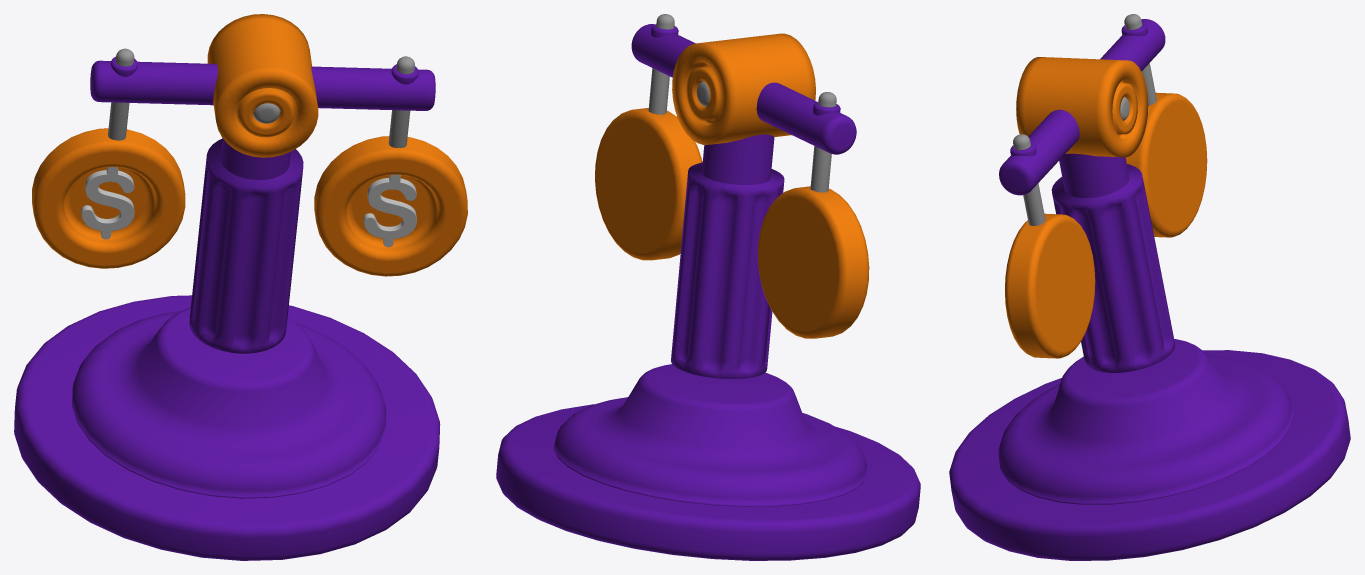
The picture shows the model from 3 angles, left to right: view 1: azimuth 30°, elevation 25°; view 2: azimuth 150°, elevation 25°; view 3: azimuth 270°, elevation 25°; orthographic projection. The views are drawn at different scales.
Parts seen in each view (by area): view 1: Cylinder.053, Cylinder.052, Cylinder.051, Cylinder.060, Cylinder.061, Cylinder.055, Cylinder.057, Text.007, Text.008, Cylinder.058, Cylinder.054, Cylinder.059; view 2: Cylinder.053, Cylinder.052, Cylinder.051, Cylinder.061, Cylinder.060, Cylinder.055, Cylinder.057, Cylinder.054, Cylinder.058; view 3: Cylinder.053, Cylinder.052, Cylinder.051, Cylinder.060, Cylinder.055, Cylinder.061, Cylinder.057, Cylinder.054, Cylinder.058.
Boxes of the visible parts, <box> form: Cylinder.053: <box>72,307,386,498</box>; Cylinder.052: <box>14,295,440,560</box>; Cylinder.051: <box>189,139,303,353</box>; Cylinder.060: <box>314,136,467,276</box>; Cylinder.061: <box>32,128,185,268</box>; Cylinder.055: <box>207,14,318,157</box>; Cylinder.057: <box>90,60,435,110</box>; Text.007: <box>363,174,416,247</box>; Text.008: <box>81,167,134,239</box>; Cylinder.058: <box>108,48,414,147</box>; Cylinder.054: <box>220,138,290,179</box>; Cylinder.059: <box>110,56,418,84</box>; Cylinder.053: <box>553,364,867,506</box>; Cylinder.052: <box>496,404,920,560</box>; Cylinder.051: <box>671,162,784,378</box>; Cylinder.061: <box>758,186,869,338</box>; Cylinder.060: <box>595,108,702,260</box>; Cylinder.055: <box>672,33,815,144</box>; Cylinder.057: <box>631,24,856,154</box>; Cylinder.054: <box>702,134,774,184</box>; Cylinder.058: <box>648,14,836,192</box>; Cylinder.053: <box>998,339,1293,504</box>; Cylinder.052: <box>949,350,1350,560</box>; Cylinder.051: <box>1051,164,1175,372</box>; Cylinder.060: <box>1005,213,1095,358</box>; Cylinder.055: <box>1016,57,1148,157</box>; Cylinder.061: <box>1125,92,1207,237</box>; Cylinder.057: <box>999,19,1165,195</box>; Cylinder.054: <box>1059,153,1129,198</box>; Cylinder.058: <box>1013,14,1156,225</box>.
Bounding box in the file's own units: 4.79 × 5.86 × 4.76.
